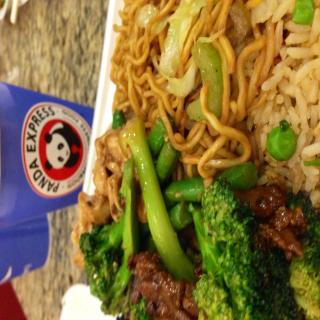Broccoli: (192, 179, 274, 320), (80, 154, 136, 317)
